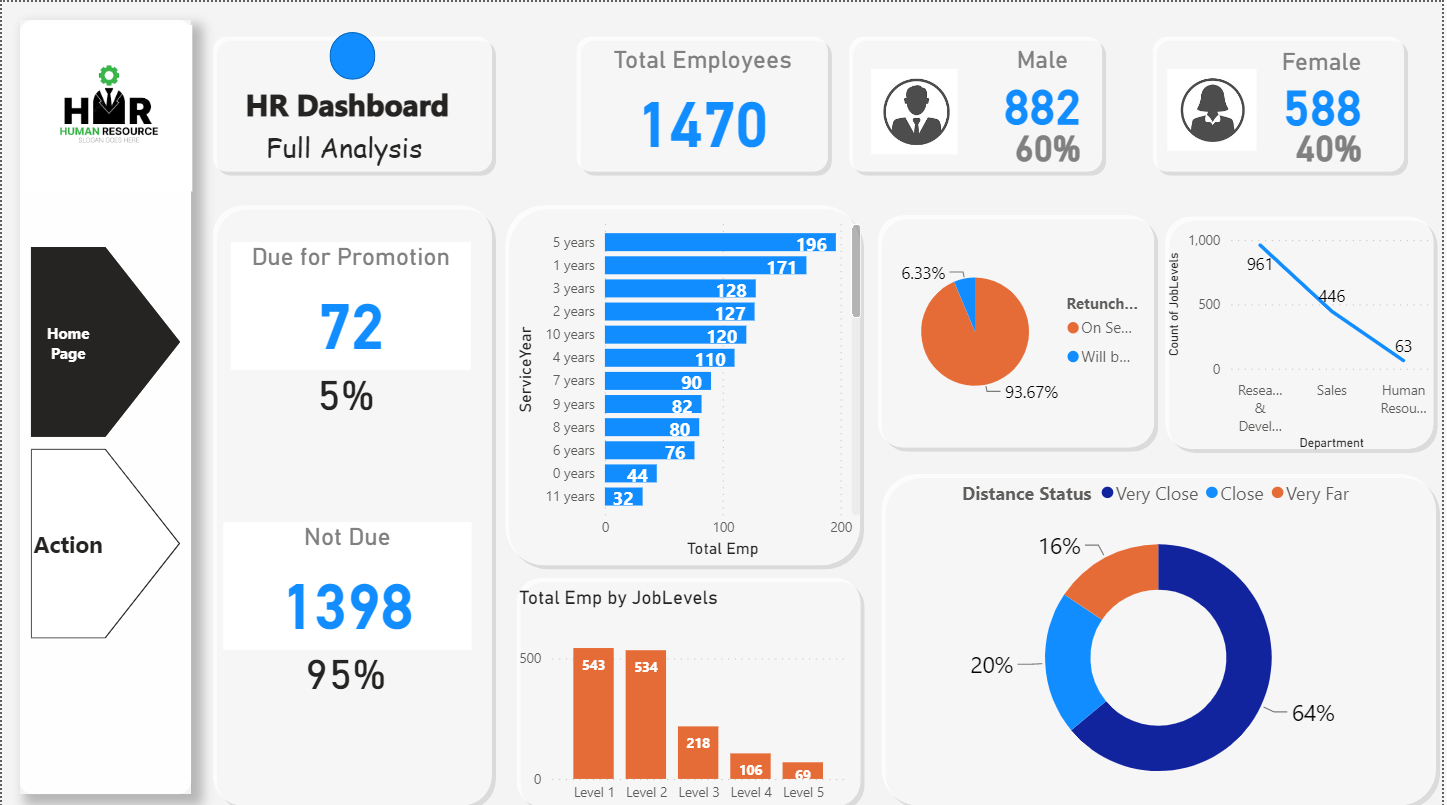

What the dashboard file says about the page in this screenshot:
{"tool":"powerbi","page":{"name":"Home Page","canvas":[1280,720],"ordinal":0},"visuals":[{"type":"shape","box":[15.7,15.7,153.2,688.6],"z":0},{"type":"shape","box":[182.1,25.3,258.1,130.3],"z":1000},{"type":"shape","box":[182.1,176.1,258.1,543.9],"z":2000},{"type":"shape","box":[505.3,25.3,234,130.3],"z":3000},{"type":"shape","box":[747.7,25.3,235.2,130.3],"z":4000},{"type":"shape","box":[1017.9,25.3,234,130.3],"z":5000},{"type":"shape","box":[442.6,176.1,325.6,330.5],"z":6000},{"type":"shape","box":[452.3,506.5,316,213.5],"z":7000},{"type":"shape","box":[773.1,184.5,255.7,217.1],"z":8000},{"type":"shape","box":[1028.7,185.7,248.4,217.1],"z":9000},{"type":"shape","box":[776.7,414.9,502.9,305.1],"z":10000},{"type":"textbox","box":[190.6,67.5,234,48.2],"z":11000},{"type":"textbox","box":[202.6,107.3,203.8,48.2],"z":12000},{"type":"shape","box":[290.7,26.5,41,42.2],"z":13000},{"type":"card","title":"Total Employees","fields":{"Values":["New Measures.Total Emp"]},"box":[517.5,38.8,210,103.8],"z":14000},{"type":"card","title":"Male","fields":{"Values":["New Measures.Male"]},"box":[855.1,38.6,138.7,77.2],"z":15000},{"type":"card","title":"Female","fields":{"Values":["New Measures.Female"]},"box":[1107.1,39.8,132.7,76],"z":16000},{"type":"card","title":"Male","fields":{"Values":["New Measures.%mal"]},"box":[865.9,107.3,127.8,41],"z":17000},{"type":"card","title":"Male","fields":{"Values":["New Measures.%femal"]},"box":[1107.1,107.3,145.9,41],"z":18000},{"type":"image","box":[1031.2,47,89.2,97.7],"z":19000},{"type":"image","box":[768.2,47,86.8,101.3],"z":20000},{"type":"card","title":"Not Due","fields":{"Values":["New Measures.Not due"]},"box":[196.6,461.9,220.7,113.4],"z":20001},{"type":"card","title":"Due for Promotion","fields":{"Values":["New Measures.due for promotion"]},"box":[203.8,213.5,213.5,113.4],"z":20002},{"type":"card","fields":{"Values":["New Measures.%due for promotion"]},"box":[211.1,289.4,188.1,113.4],"z":20003},{"type":"card","fields":{"Values":["New Measures.%No due promotion"]},"box":[211.1,537.9,188.1,113.4],"z":20004},{"type":"barChart","fields":{"Category":["HR Analytics Data.ServiceYear"],"Y":["New Measures.Total Emp"]},"box":[452.3,184.5,316,314.8],"z":20005},{"type":"clusteredColumnChart","fields":{"Y":["New Measures.Total Emp"],"Category":["HR Analytics Data.JobLevels"]},"box":[454.7,518.6,300.3,201.4],"z":20006},{"type":"pieChart","fields":{"Category":["HR Analytics Data.Retunchment Status"],"Y":["CountNonNull(HR Analytics Data.Retunchment Status)"]},"box":[779.1,191.8,242.4,201.4],"z":20007},{"type":"donutChart","fields":{"Category":["HR Analytics Data.Distance Status"],"Y":["CountNonNull(HR Analytics Data.Distance Status)"]},"box":[776.7,414.9,502.9,305.1],"z":20008},{"type":"lineChart","fields":{"Category":["HR Analytics Data.Department"],"Y":["CountNonNull(HR Analytics Data.JobLevels)"]},"box":[1031.2,197.8,248.4,205],"z":20009},{"type":"pageNavigator","box":[25.3,218.3,133.9,349.7],"z":20010},{"type":"image","box":[15.7,15.7,159.2,158],"z":20011}]}

Visuals, with their boxes in screenshot pixels (x1, y1, x2, y2), scaled from the page's 1280x720 canvas onto the 1447x805 screenshot:
shape: 18,18,191,787
shape: 206,28,498,174
shape: 206,197,498,804
shape: 571,28,836,174
shape: 845,28,1111,174
shape: 1151,28,1415,174
shape: 500,197,868,566
shape: 511,566,869,804
shape: 874,206,1163,449
shape: 1163,208,1444,450
shape: 878,464,1446,804
textbox: 215,75,480,129
textbox: 229,120,459,174
shape: 329,30,375,77
"Total Employees" card: 585,43,822,159
"Male" card: 967,43,1123,129
"Female" card: 1252,44,1402,129
"Male" card: 979,120,1123,166
"Male" card: 1252,120,1416,166
image: 1166,53,1267,162
image: 868,53,967,166
"Not Due" card: 222,516,472,643
"Due for Promotion" card: 230,239,472,365
card - New Measures.%due for promotion: 239,324,451,450
card - New Measures.%No due promotion: 239,601,451,728
barChart - HR Analytics Data.ServiceYear x New Measures.Total Emp: 511,206,869,558
clusteredColumnChart - New Measures.Total Emp x HR Analytics Data.JobLevels: 514,580,854,804
pieChart - HR Analytics Data.Retunchment Status x CountNonNull(HR Analytics Data.Retunchment Status): 881,214,1155,440
donutChart - HR Analytics Data.Distance Status x CountNonNull(HR Analytics Data.Distance Status): 878,464,1446,804
lineChart - HR Analytics Data.Department x CountNonNull(HR Analytics Data.JobLevels): 1166,221,1446,450
pageNavigator: 29,244,180,635
image: 18,18,198,194
